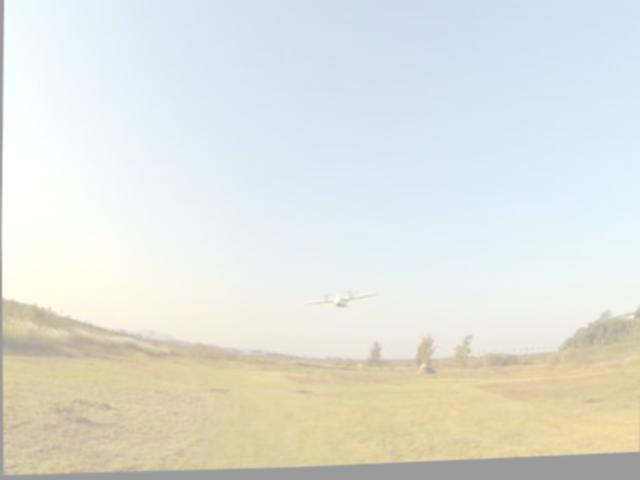uav: (297, 283, 382, 319)
